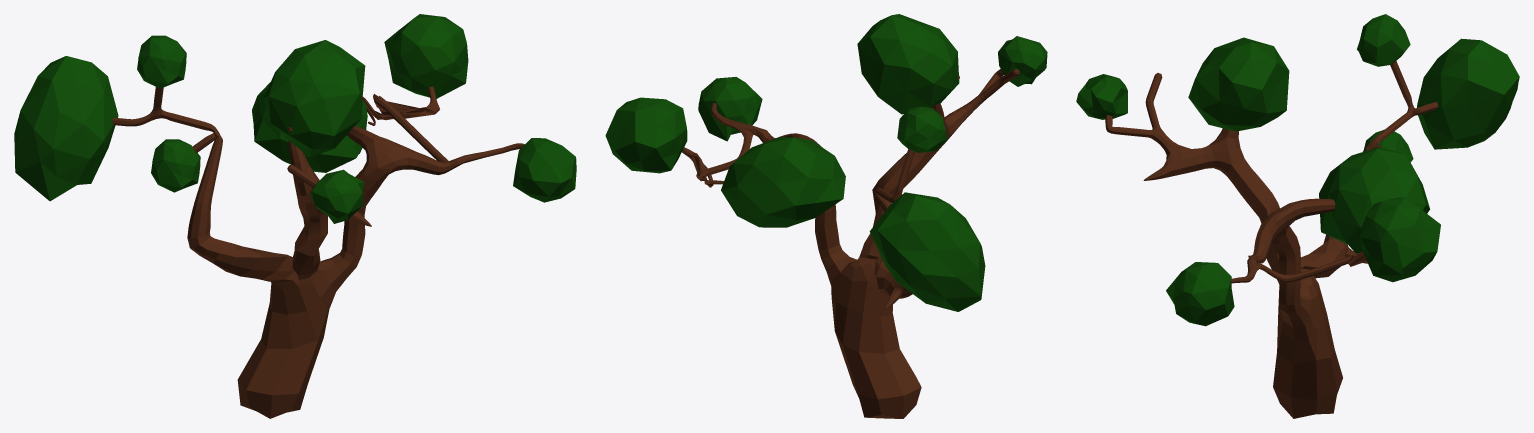
The model's file is Tree3.obj.
3 renders of one model, left to right at view 1: azimuth 30°, elevation 25°; view 2: azimuth 150°, elevation 25°; view 3: azimuth 270°, elevation 25°, orthographic. The views are drawn at different scales.
Parts seen in each view (by area): view 1: Icosphere.007_Icosphere.017; view 2: Icosphere.007_Icosphere.017; view 3: Icosphere.007_Icosphere.017.
Part boxes in pixels (x1,y1,x2,y2): Icosphere.007_Icosphere.017: (14, 14, 576, 418); Icosphere.007_Icosphere.017: (605, 14, 1047, 418); Icosphere.007_Icosphere.017: (1076, 14, 1519, 418).
Size of the model in its own units: 9.86 by 8.67 by 9.06.
